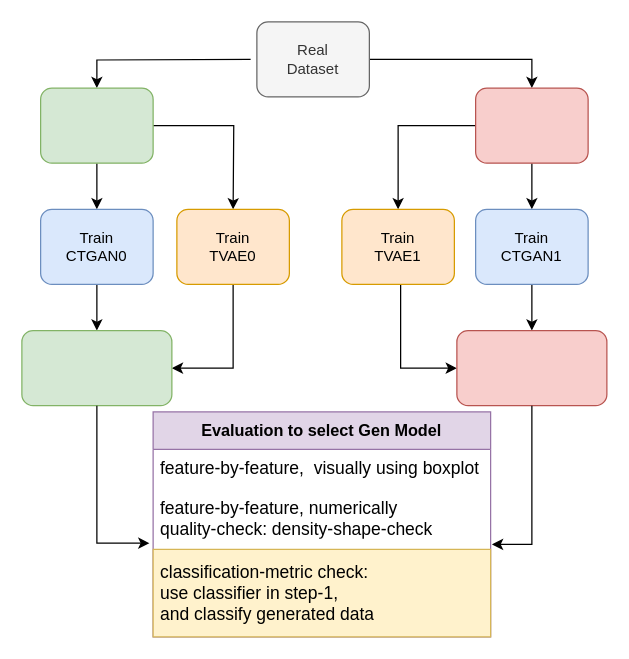
This 629x659 diagram has some shape labels left out. The shapes that lost their labels are listed below. From the top down, each one's centre as x and y in pixels, then its label:
the point at 96,125: Legit Class M-sample
the point at 531,125: Fraud Class N-sample
the point at 96,367: Generate M-sample Compare with real data
the point at 531,367: Generate N-sample Compare with real data
